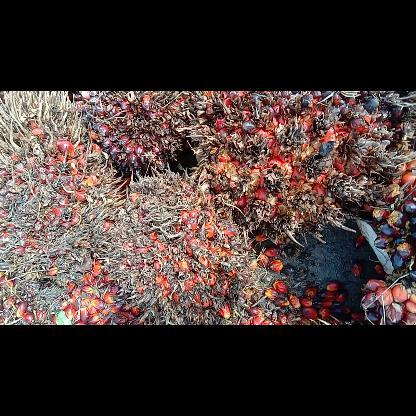Terlalu masak: (187, 90, 415, 250), (102, 163, 272, 323), (0, 90, 137, 272), (82, 91, 204, 173)
